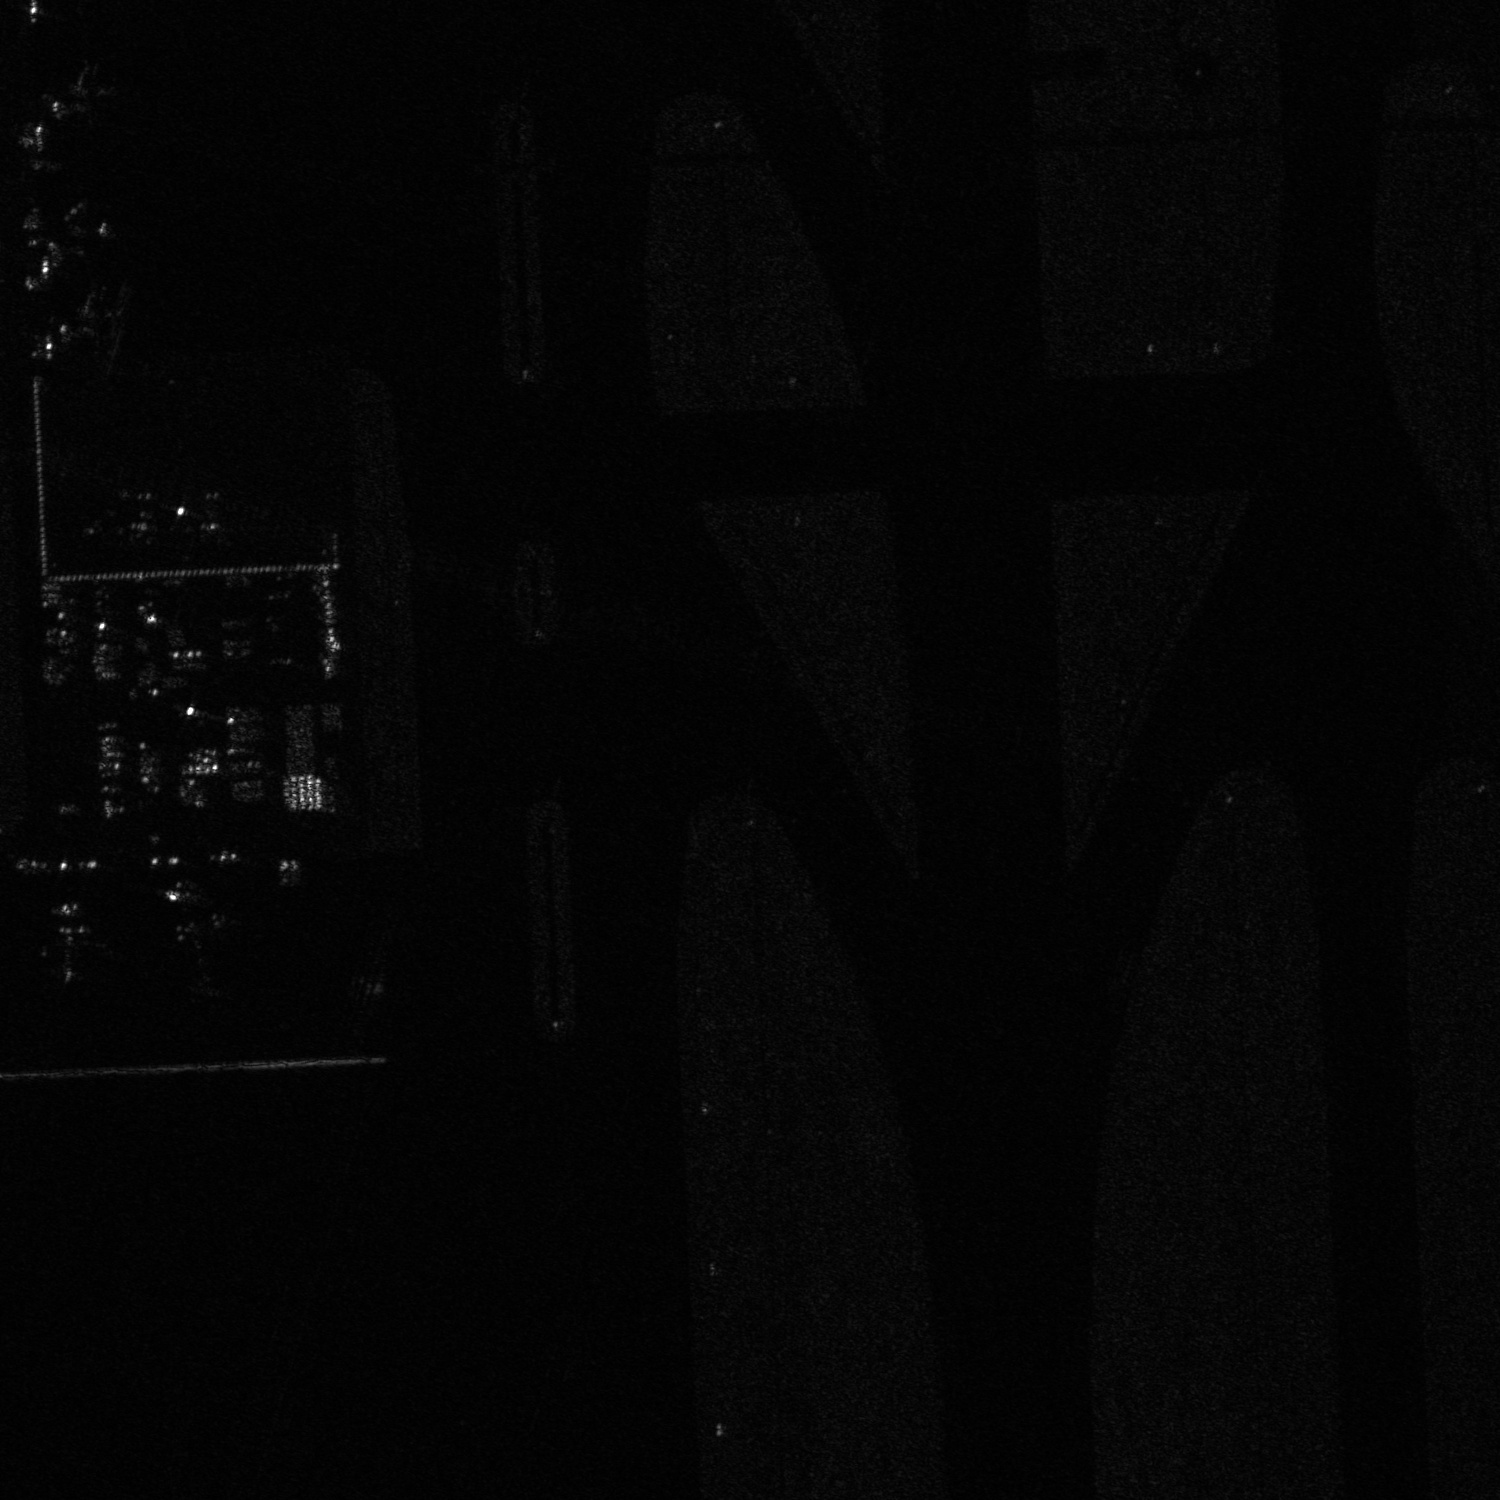A220: (29, 192, 128, 268)
A320/321: (33, 60, 120, 124)
ARJ21: (118, 482, 168, 545)
Boeing737: (18, 891, 120, 990), (155, 876, 236, 988)
other: (54, 283, 135, 350), (184, 484, 245, 545)
